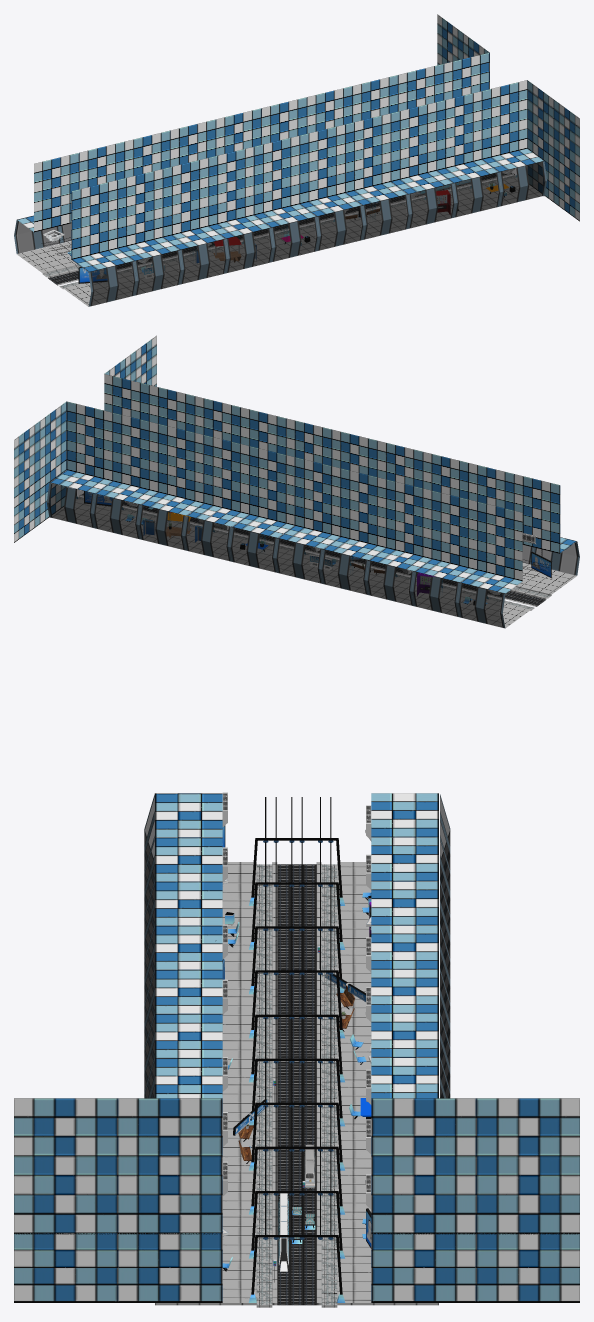
Rendered from subwaysurferstest29.glb.
3 views of the same model, one above another, from view 1: azimuth 30°, elevation 25°; view 2: azimuth 150°, elevation 25°; view 3: azimuth 270°, elevation 25° (orthographic). The views are drawn at different scales.
Visible parts, largest first — view 1: tiledwall.016, tiledwall, tiledwall.005, tiledwall.018, tiledwall.019, tiledwall.024, tiledwall.006, tiledwall.017, tiledwall.003, tiledwall.023, tiledwall.025, tiledwall.001 (+35 smaller); view 2: tiledwall.013, tiledwall.021, tiledwall.025, tiledwall.009, tiledwall.012, tiledwall.022, tiledwall.020, tiledwall.027, tiledwall.007, tiledwall.026, tiledwall.024, tiledwall.008 (+36 smaller); view 3: tiledwall.014, tiledwall.008, tiledwall.002, tiledwall.001, tiledwall.010, tiledwall.004, tiledwall.015, tiledwall.011, tiledwall.017, tiledwall.018, tiledwall.019, tiledwall.020 (+40 smaller).
Part boxes in pixels (<box>): tiledwall.016: <box>162,158,224,249</box>; tiledwall: <box>481,80,543,171</box>; tiledwall.005: <box>390,102,452,194</box>; tiledwall.018: <box>253,136,316,227</box>; tiledwall.019: <box>208,147,270,238</box>; tiledwall.024: <box>71,180,133,272</box>; tiledwall.006: <box>345,113,407,205</box>; tiledwall.017: <box>299,124,361,216</box>; tiledwall.003: <box>436,91,498,183</box>; tiledwall.023: <box>117,169,179,260</box>; tiledwall.025: <box>17,152,79,232</box>; tiledwall.001: <box>527,80,553,167</box>; tiledwall.013: <box>50,401,112,493</box>; tiledwall.021: <box>278,457,340,548</box>; tiledwall.025: <box>460,501,522,593</box>; tiledwall.009: <box>141,423,203,515</box>; tiledwall.012: <box>95,412,157,504</box>; tiledwall.022: <box>232,446,294,537</box>; tiledwall.020: <box>323,468,385,560</box>; tiledwall.027: <box>369,479,431,571</box>; tiledwall.007: <box>187,435,248,526</box>; tiledwall.026: <box>415,490,476,582</box>; tiledwall.024: <box>514,474,576,553</box>; tiledwall.008: <box>14,421,40,508</box>; tiledwall.014: <box>371,1098,475,1234</box>; tiledwall.008: <box>475,1098,579,1234</box>; tiledwall.002: <box>14,1098,118,1234</box>; tiledwall.001: <box>118,1098,222,1234</box>; tiledwall.010: <box>14,1233,118,1302</box>; tiledwall.004: <box>118,1233,222,1302</box>; tiledwall.015: <box>371,1233,475,1302</box>; tiledwall.011: <box>475,1233,579,1302</box>; tiledwall.017: <box>155,1013,222,1057</box>; tiledwall.018: <box>155,969,222,1013</box>; tiledwall.019: <box>155,925,222,969</box>; tiledwall.020: <box>371,925,438,969</box>.
Bounding box in the file's own units: 403 × 88.5 × 217.
4 materials, 4 textured.
